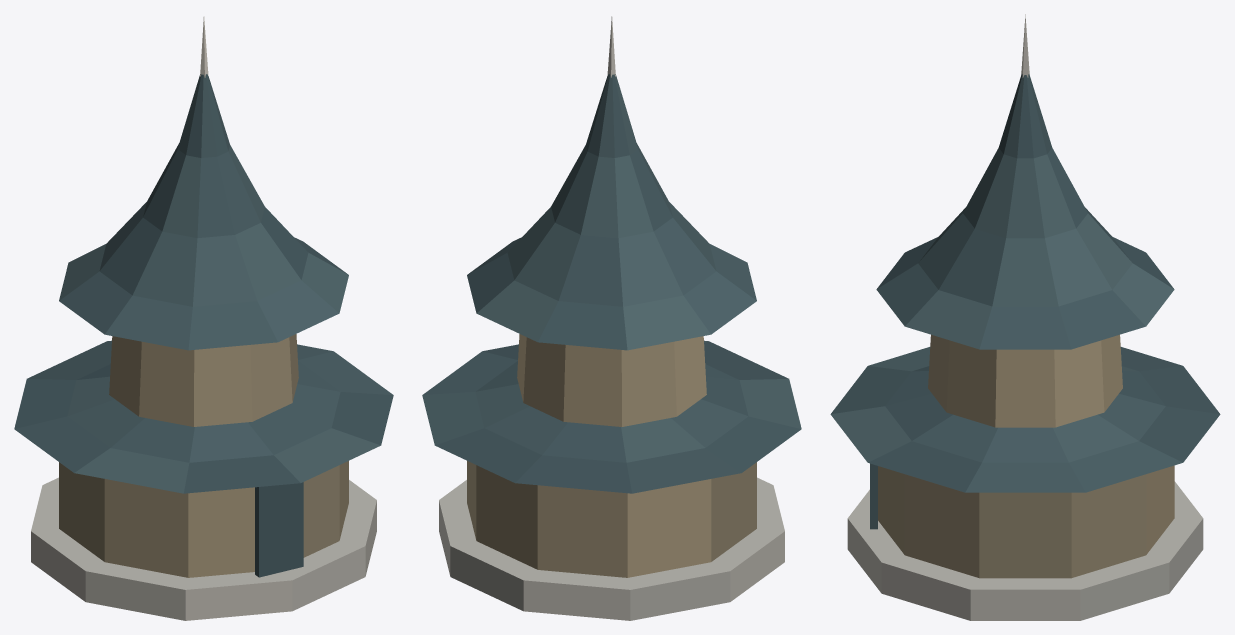
The model's file is elf_house_tall.glb.
3 renders of one model, left to right at view 1: azimuth 30°, elevation 25°; view 2: azimuth 150°, elevation 25°; view 3: azimuth 270°, elevation 25°, orthographic.
Parts seen in each view (by area): view 1: elf_house_tall; view 2: elf_house_tall; view 3: elf_house_tall.
Part boxes in pixels (x1,y1,x2,y2): elf_house_tall: (14,16,393,620); elf_house_tall: (422,16,801,620); elf_house_tall: (830,14,1220,620).
Bounding box in the file's own units: 6.47 × 10.3 × 6.8.
1 material, 1 textured.
